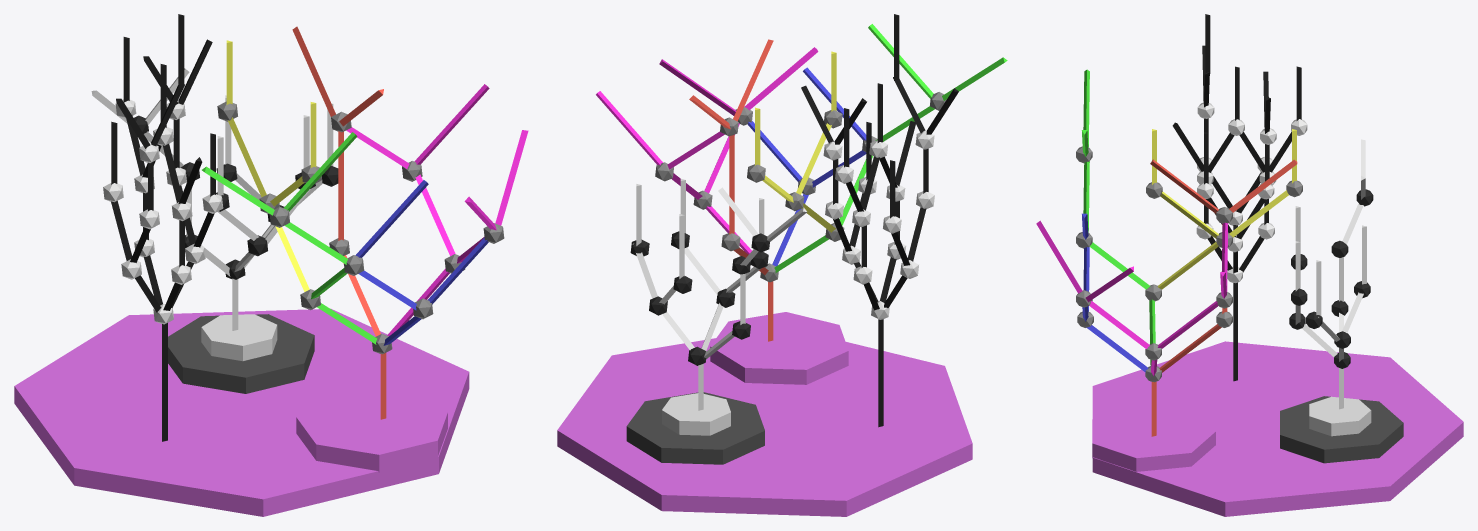
The model's file is green_a_cy.glb.
3 views of the same model, side by side, from view 1: azimuth 30°, elevation 25°; view 2: azimuth 150°, elevation 25°; view 3: azimuth 270°, elevation 25° (orthographic). The views are drawn at different scales.
Visible parts, largest first — view 1: Cylinder.055; view 2: Cylinder.055; view 3: Cylinder.055.
Boxes of the visible parts, <box> form: Cylinder.055: <box>14,14,528,516</box>; Cylinder.055: <box>557,14,1007,516</box>; Cylinder.055: <box>1036,14,1463,516</box>.
Size of the model in its own units: 12.26 by 12.88 by 13.15.
